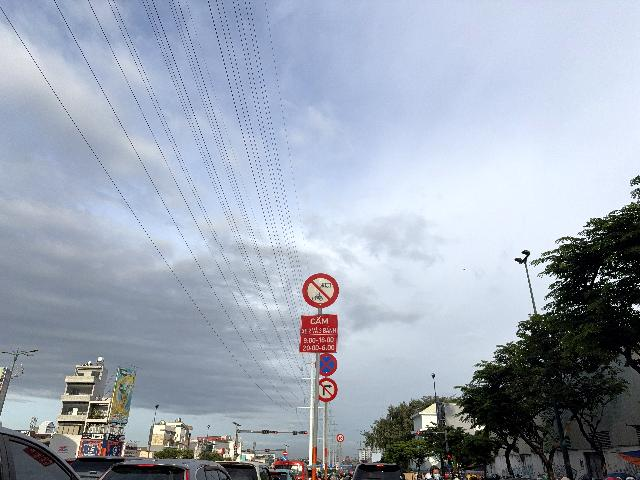cam-dung-va-do-xe: (320, 353, 338, 376)
cam-re-phai: (319, 377, 338, 402)
cam-xe-2-banh-3-banh: (302, 272, 339, 308)
